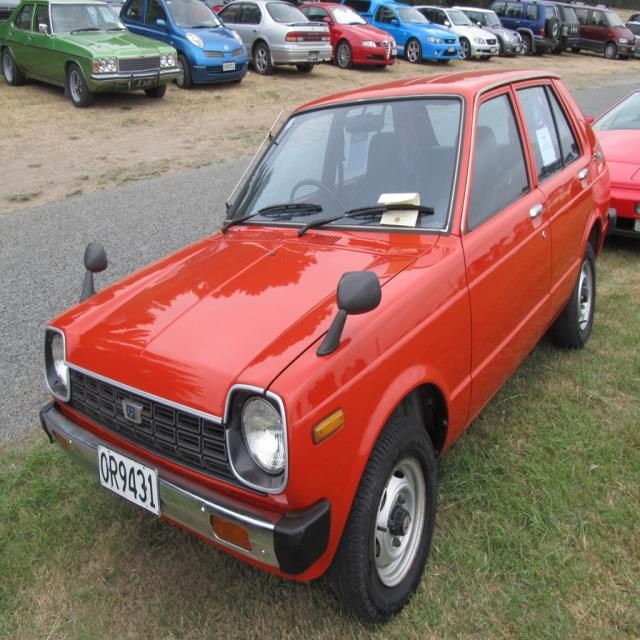Passenger Car: (39, 69, 612, 626), (1, 1, 177, 109), (180, 1, 250, 90), (250, 1, 332, 74), (334, 1, 399, 71), (400, 1, 462, 64), (585, 2, 636, 60), (462, 1, 500, 61), (526, 1, 561, 57), (500, 1, 522, 58), (561, 1, 581, 54)
